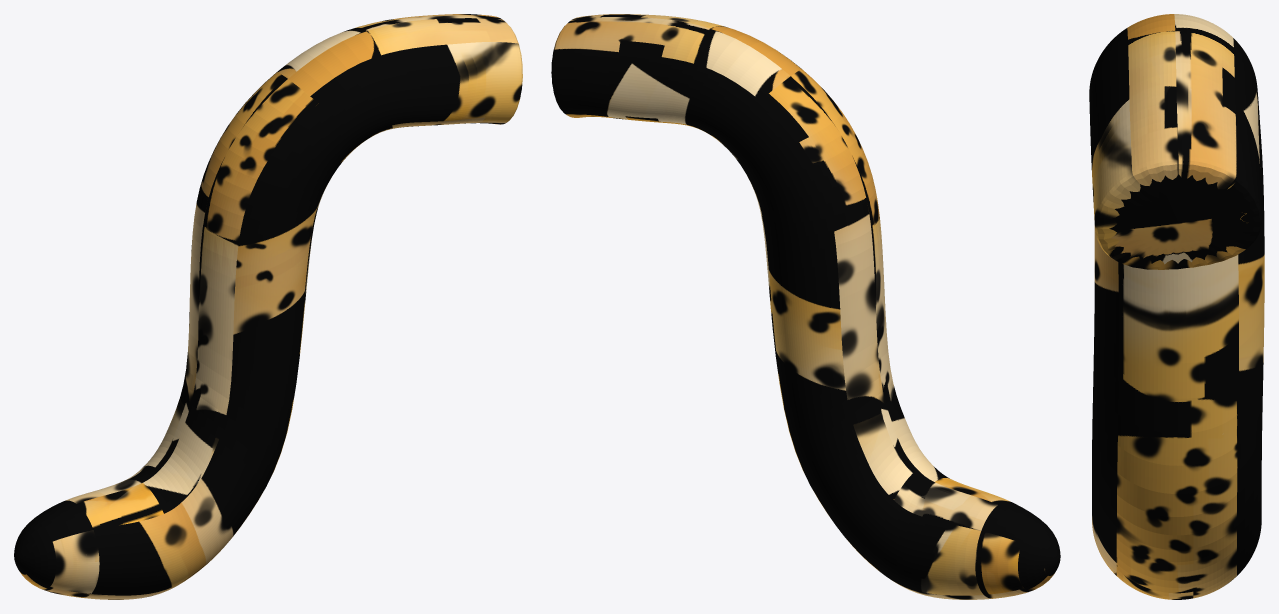
Rendered from tail.obj.
The picture shows the model from 3 angles, left to right: view 1: azimuth 30°, elevation 25°; view 2: azimuth 150°, elevation 25°; view 3: azimuth 270°, elevation 25°; orthographic projection. The views are drawn at different scales.
Parts seen in each view (by area): view 1: Cylinder; view 2: Cylinder; view 3: Cylinder.
Boxes of the visible parts, <box> form: Cylinder: <box>14,14,522,599</box>; Cylinder: <box>551,14,1060,599</box>; Cylinder: <box>1089,14,1264,599</box>.
Size of the model in its own units: 4.67 by 4.62 by 1.03.
Materials: 1 (1 with a texture image).
